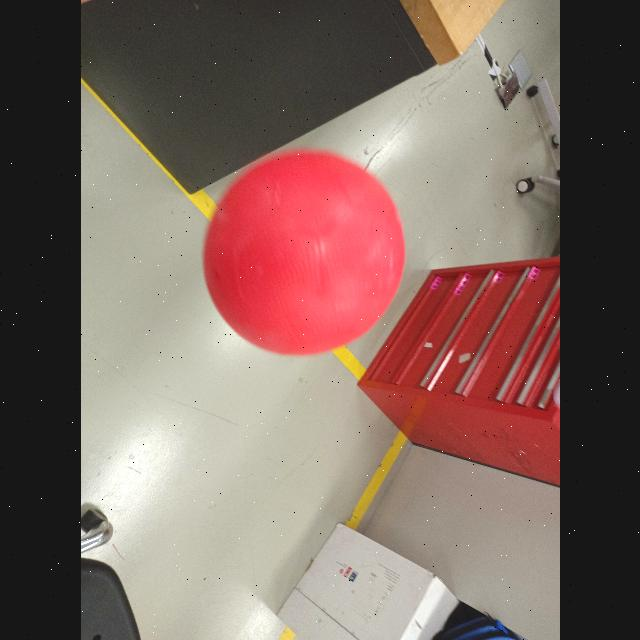R: (204, 148, 404, 360)
